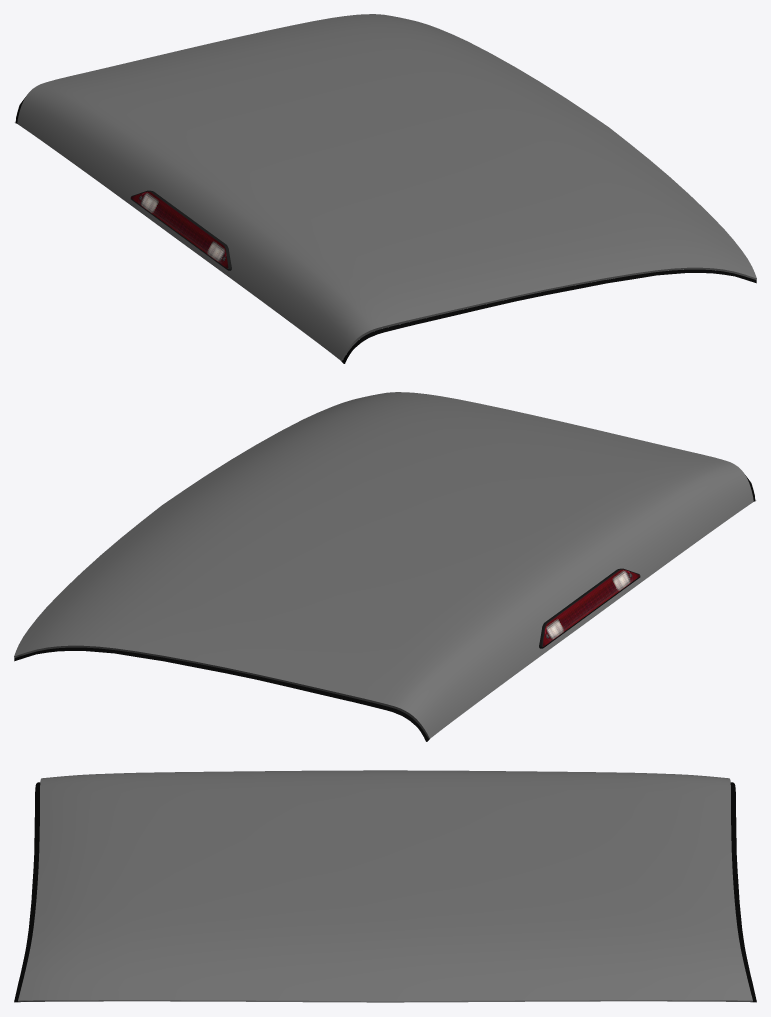
The picture shows the model from 3 angles, top to bottom: view 1: azimuth 30°, elevation 25°; view 2: azimuth 150°, elevation 25°; view 3: azimuth 270°, elevation 25°; orthographic projection. The views are drawn at different scales.
Visible parts, largest first — view 1: U803_1A_341B_C_U803_1A_341B_C_1_DaS, U803_1A_341B_C_U803_1A_341B_C_5_D, U803_1A_341B_C_2_N_U803_1A_341B_C, U803_1A_341B_C_U803_1A_341B_C_1_DaS_E, U803_1A_341B_C_U803_1A_341B_C_3_D; view 2: U803_1A_341B_C_U803_1A_341B_C_1_DaS, U803_1A_341B_C_U803_1A_341B_C_5_D, U803_1A_341B_C_2_N_U803_1A_341B_C, U803_1A_341B_C_U803_1A_341B_C_1_DaS_E, U803_1A_341B_C_U803_1A_341B_C_3_D; view 3: U803_1A_341B_C_U803_1A_341B_C_1_DaS, U803_1A_341B_C_U803_1A_341B_C_5_D, U803_1A_341B_C_U803_1A_341B_C_1_DaS_E.
Part boxes in pixels (x1=…): U803_1A_341B_C_U803_1A_341B_C_1_DaS: x1=17, y1=14, x2=756, y2=360; U803_1A_341B_C_U803_1A_341B_C_5_D: x1=15, y1=97, x2=756, y2=363; U803_1A_341B_C_2_N_U803_1A_341B_C: x1=131, y1=191, x2=228, y2=268; U803_1A_341B_C_U803_1A_341B_C_1_DaS_E: x1=341, y1=267, x2=756, y2=360; U803_1A_341B_C_U803_1A_341B_C_3_D: x1=130, y1=190, x2=231, y2=270; U803_1A_341B_C_U803_1A_341B_C_1_DaS: x1=14, y1=392, x2=753, y2=738; U803_1A_341B_C_U803_1A_341B_C_5_D: x1=14, y1=475, x2=755, y2=741; U803_1A_341B_C_2_N_U803_1A_341B_C: x1=542, y1=569, x2=639, y2=646; U803_1A_341B_C_U803_1A_341B_C_1_DaS_E: x1=14, y1=645, x2=429, y2=738; U803_1A_341B_C_U803_1A_341B_C_3_D: x1=539, y1=568, x2=640, y2=648; U803_1A_341B_C_U803_1A_341B_C_1_DaS: x1=18, y1=770, x2=752, y2=1001; U803_1A_341B_C_U803_1A_341B_C_5_D: x1=14, y1=782, x2=756, y2=1002; U803_1A_341B_C_U803_1A_341B_C_1_DaS_E: x1=18, y1=1000, x2=752, y2=1002.
Bounding box in the file's own units: 78.01 × 8.91 × 113.
